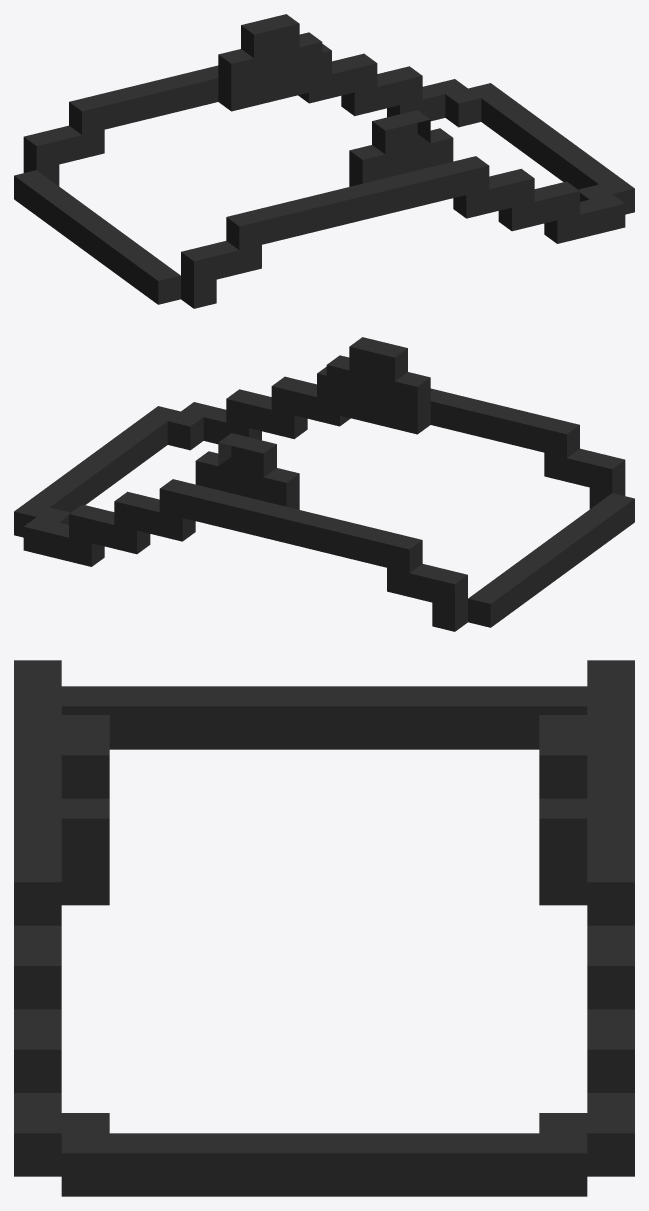
The model's file is StockFoldMP40.fbx.
3 views of the same model, one above another, from view 1: azimuth 30°, elevation 25°; view 2: azimuth 150°, elevation 25°; view 3: azimuth 270°, elevation 25° (orthographic). The views are drawn at different scales.
Parts seen in each view (by area): view 1: StockFoldMP40.001; view 2: StockFoldMP40.001; view 3: StockFoldMP40.001.
Part boxes in pixels (x1=…): StockFoldMP40.001: x1=14, y1=14, x2=634, y2=308; StockFoldMP40.001: x1=14, y1=337, x2=634, y2=631; StockFoldMP40.001: x1=14, y1=660, x2=634, y2=1196.
Bounding box in the file's own units: 2.1 × 0.6 × 1.3.
Materials: 1 (1 with a texture image).
